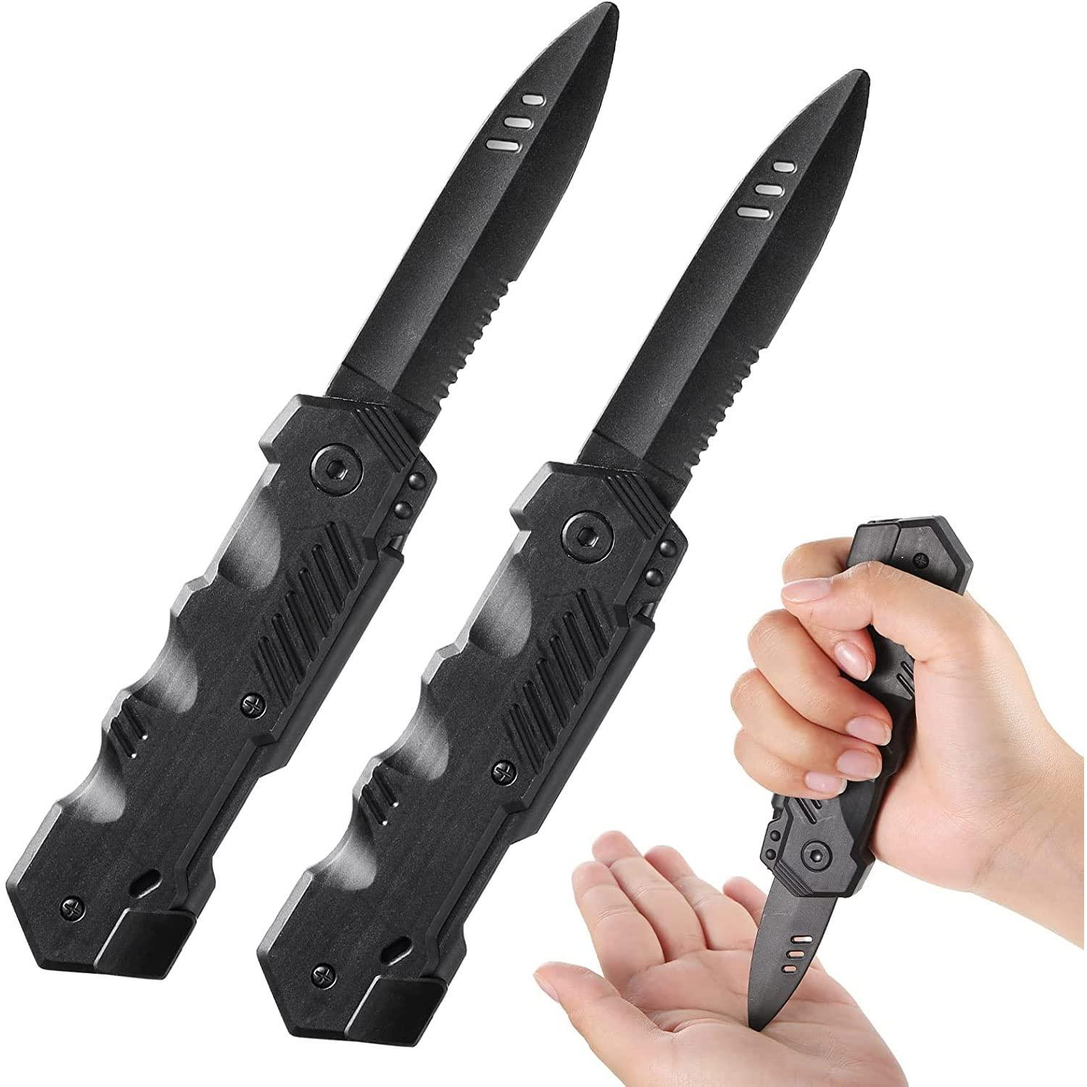Knife: (258, 65, 875, 1045), (6, 1, 622, 981), (542, 536, 1087, 1087), (749, 520, 980, 1038), (732, 535, 1042, 890)
